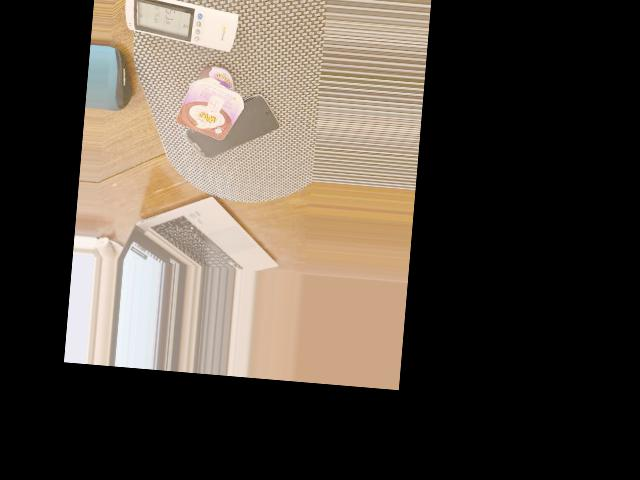milky: (176, 64, 246, 142)
